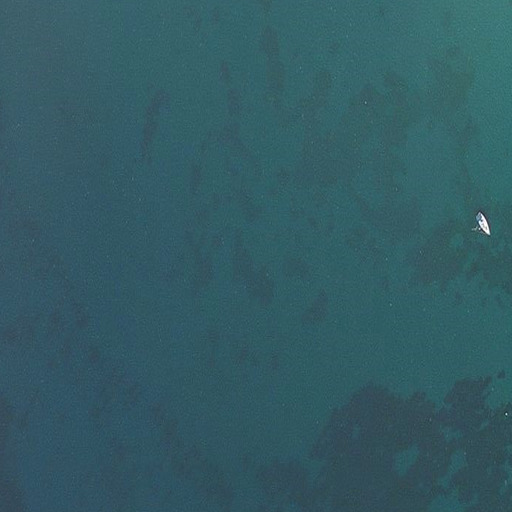ship: (474, 211, 491, 236)
